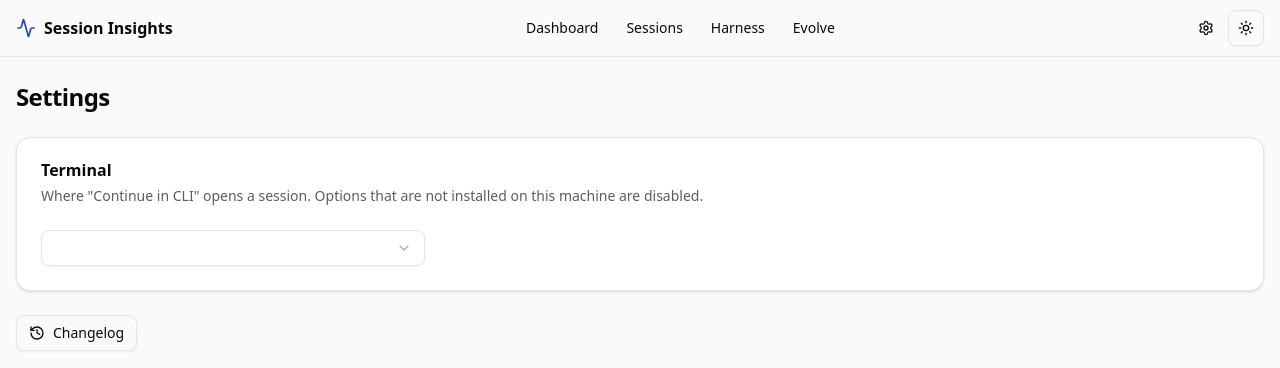
Test case: Application Log › is linked only inside the Options menu and navigates to the log page
Expected: the heading "Settings" is shown, [16,80,110,113]
Expected: the link "Application Log" is not shown
What coordinates should you click on to do the following:
click the button named "Options"
I would click on:
 (1206, 28)
Its box is [1188,10,1224,46].
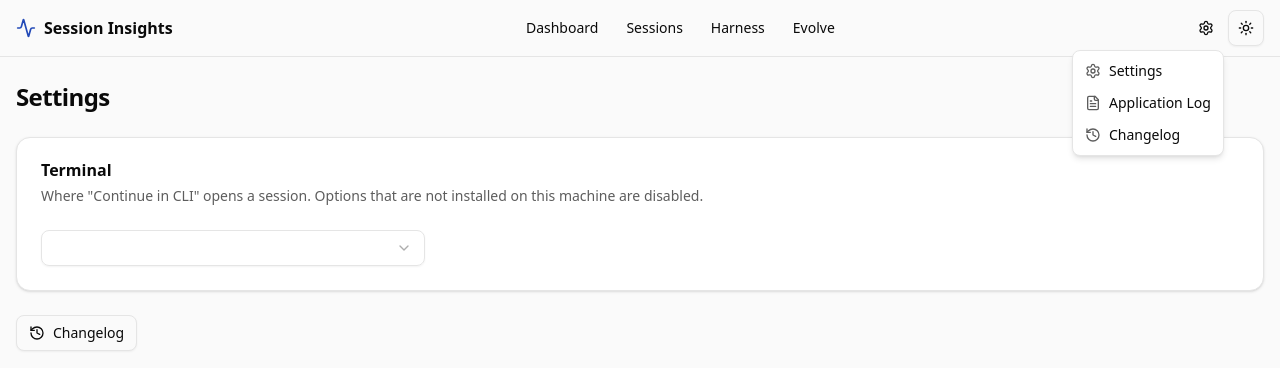
What coordinates should you click on to do the following:
click the menu item "Application Log"
I would click on:
 (1148, 102)
Its box is [1085,93,1211,112].
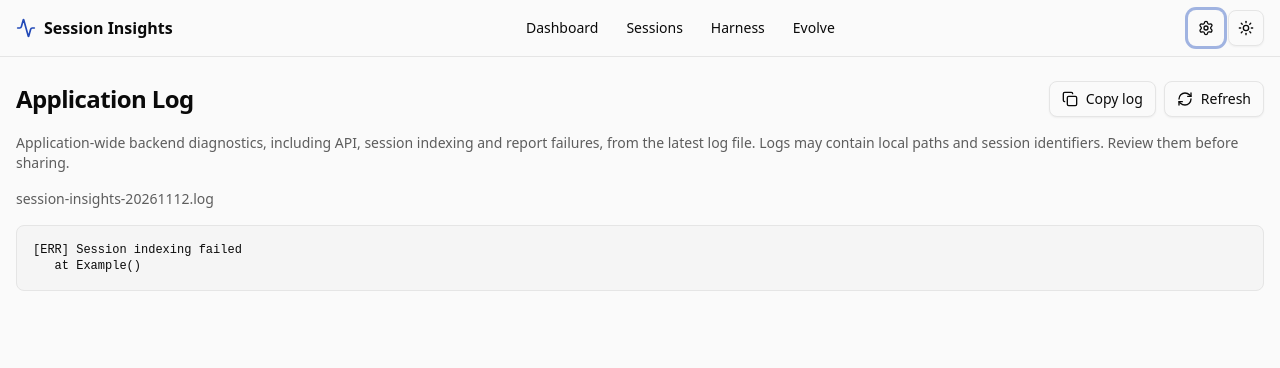
Result: the heading "Application Log" is shown at [16,83,194,115]
Result: the text named "Application log contents" shows "Session indexing failed" at [33,243,242,273]
